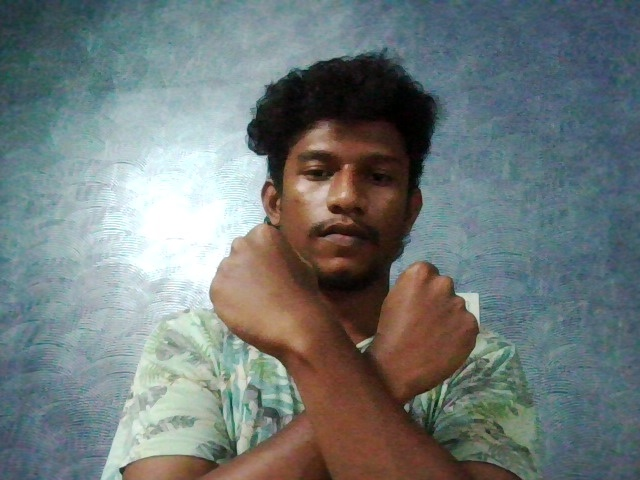danger: (189, 207, 533, 467)
